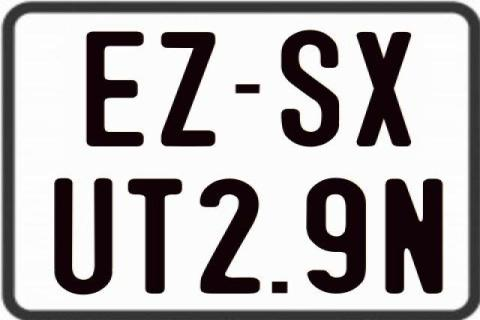0: (303, 176, 364, 293), (198, 176, 260, 291)
E: (83, 30, 142, 148)
N: (385, 177, 443, 295)
S: (279, 28, 337, 147)
T: (125, 177, 179, 293)
U: (54, 179, 112, 299)
X: (357, 29, 414, 145)
Z: (158, 30, 217, 150)
